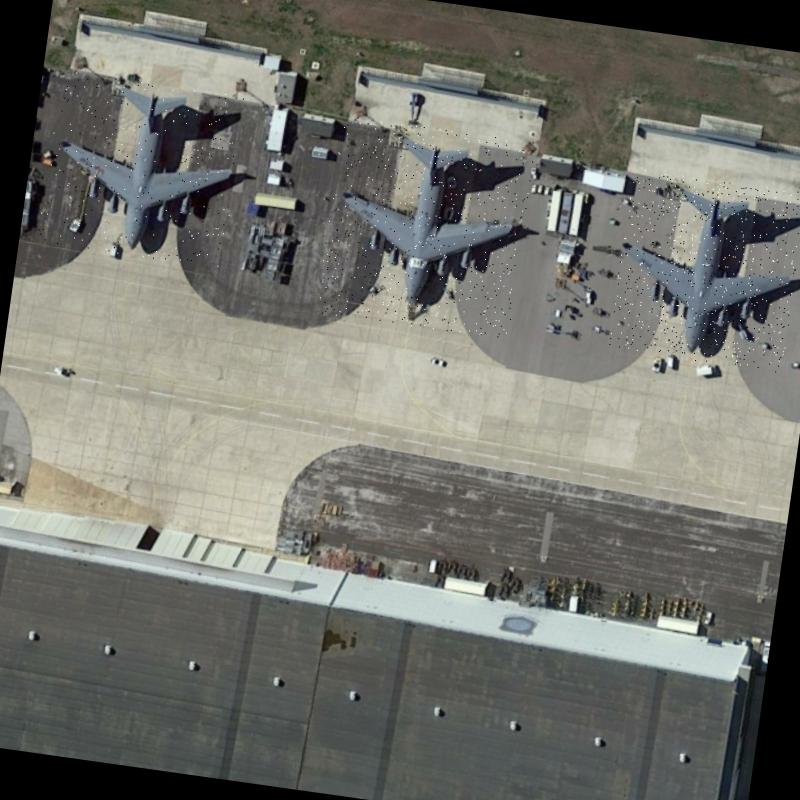A3: (316, 115, 536, 340), (36, 70, 246, 268), (607, 168, 800, 373)
